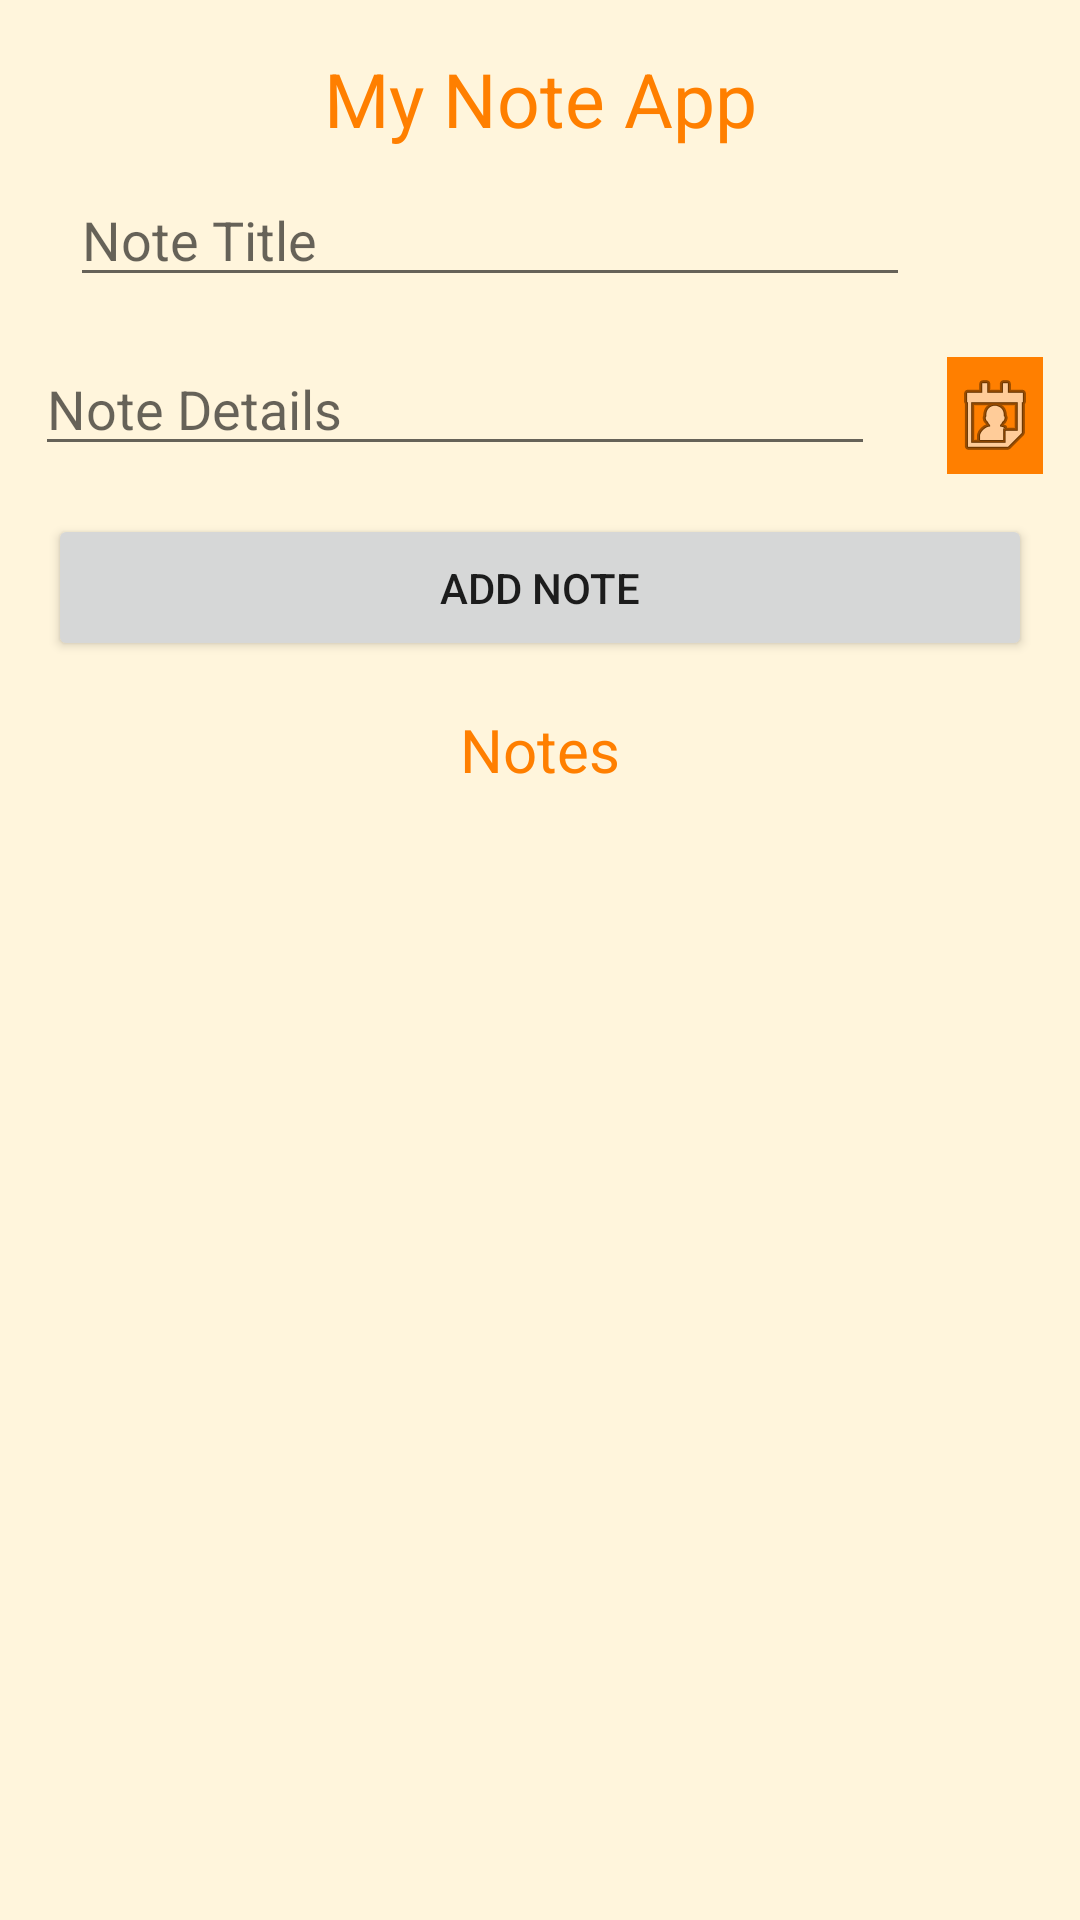

Icons on this 1080×1920 Android screen, each with its box as bbox=[x1, y1, x2, y2]:
calendar: bbox=[947, 357, 1043, 474]
